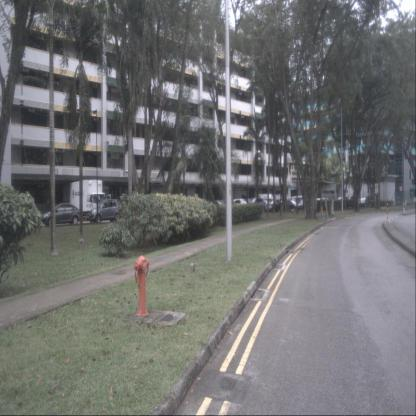vehicle-car: (41, 202, 80, 226), (88, 198, 123, 223), (247, 197, 265, 214), (284, 199, 300, 212), (358, 197, 371, 208)
vehicle-truck: (70, 178, 106, 221)
